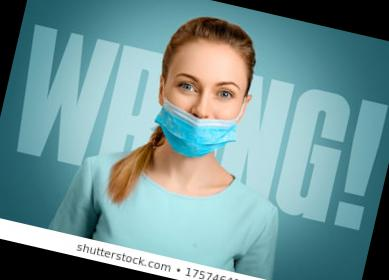mask_weared_incorrect: (154, 58, 249, 160)
